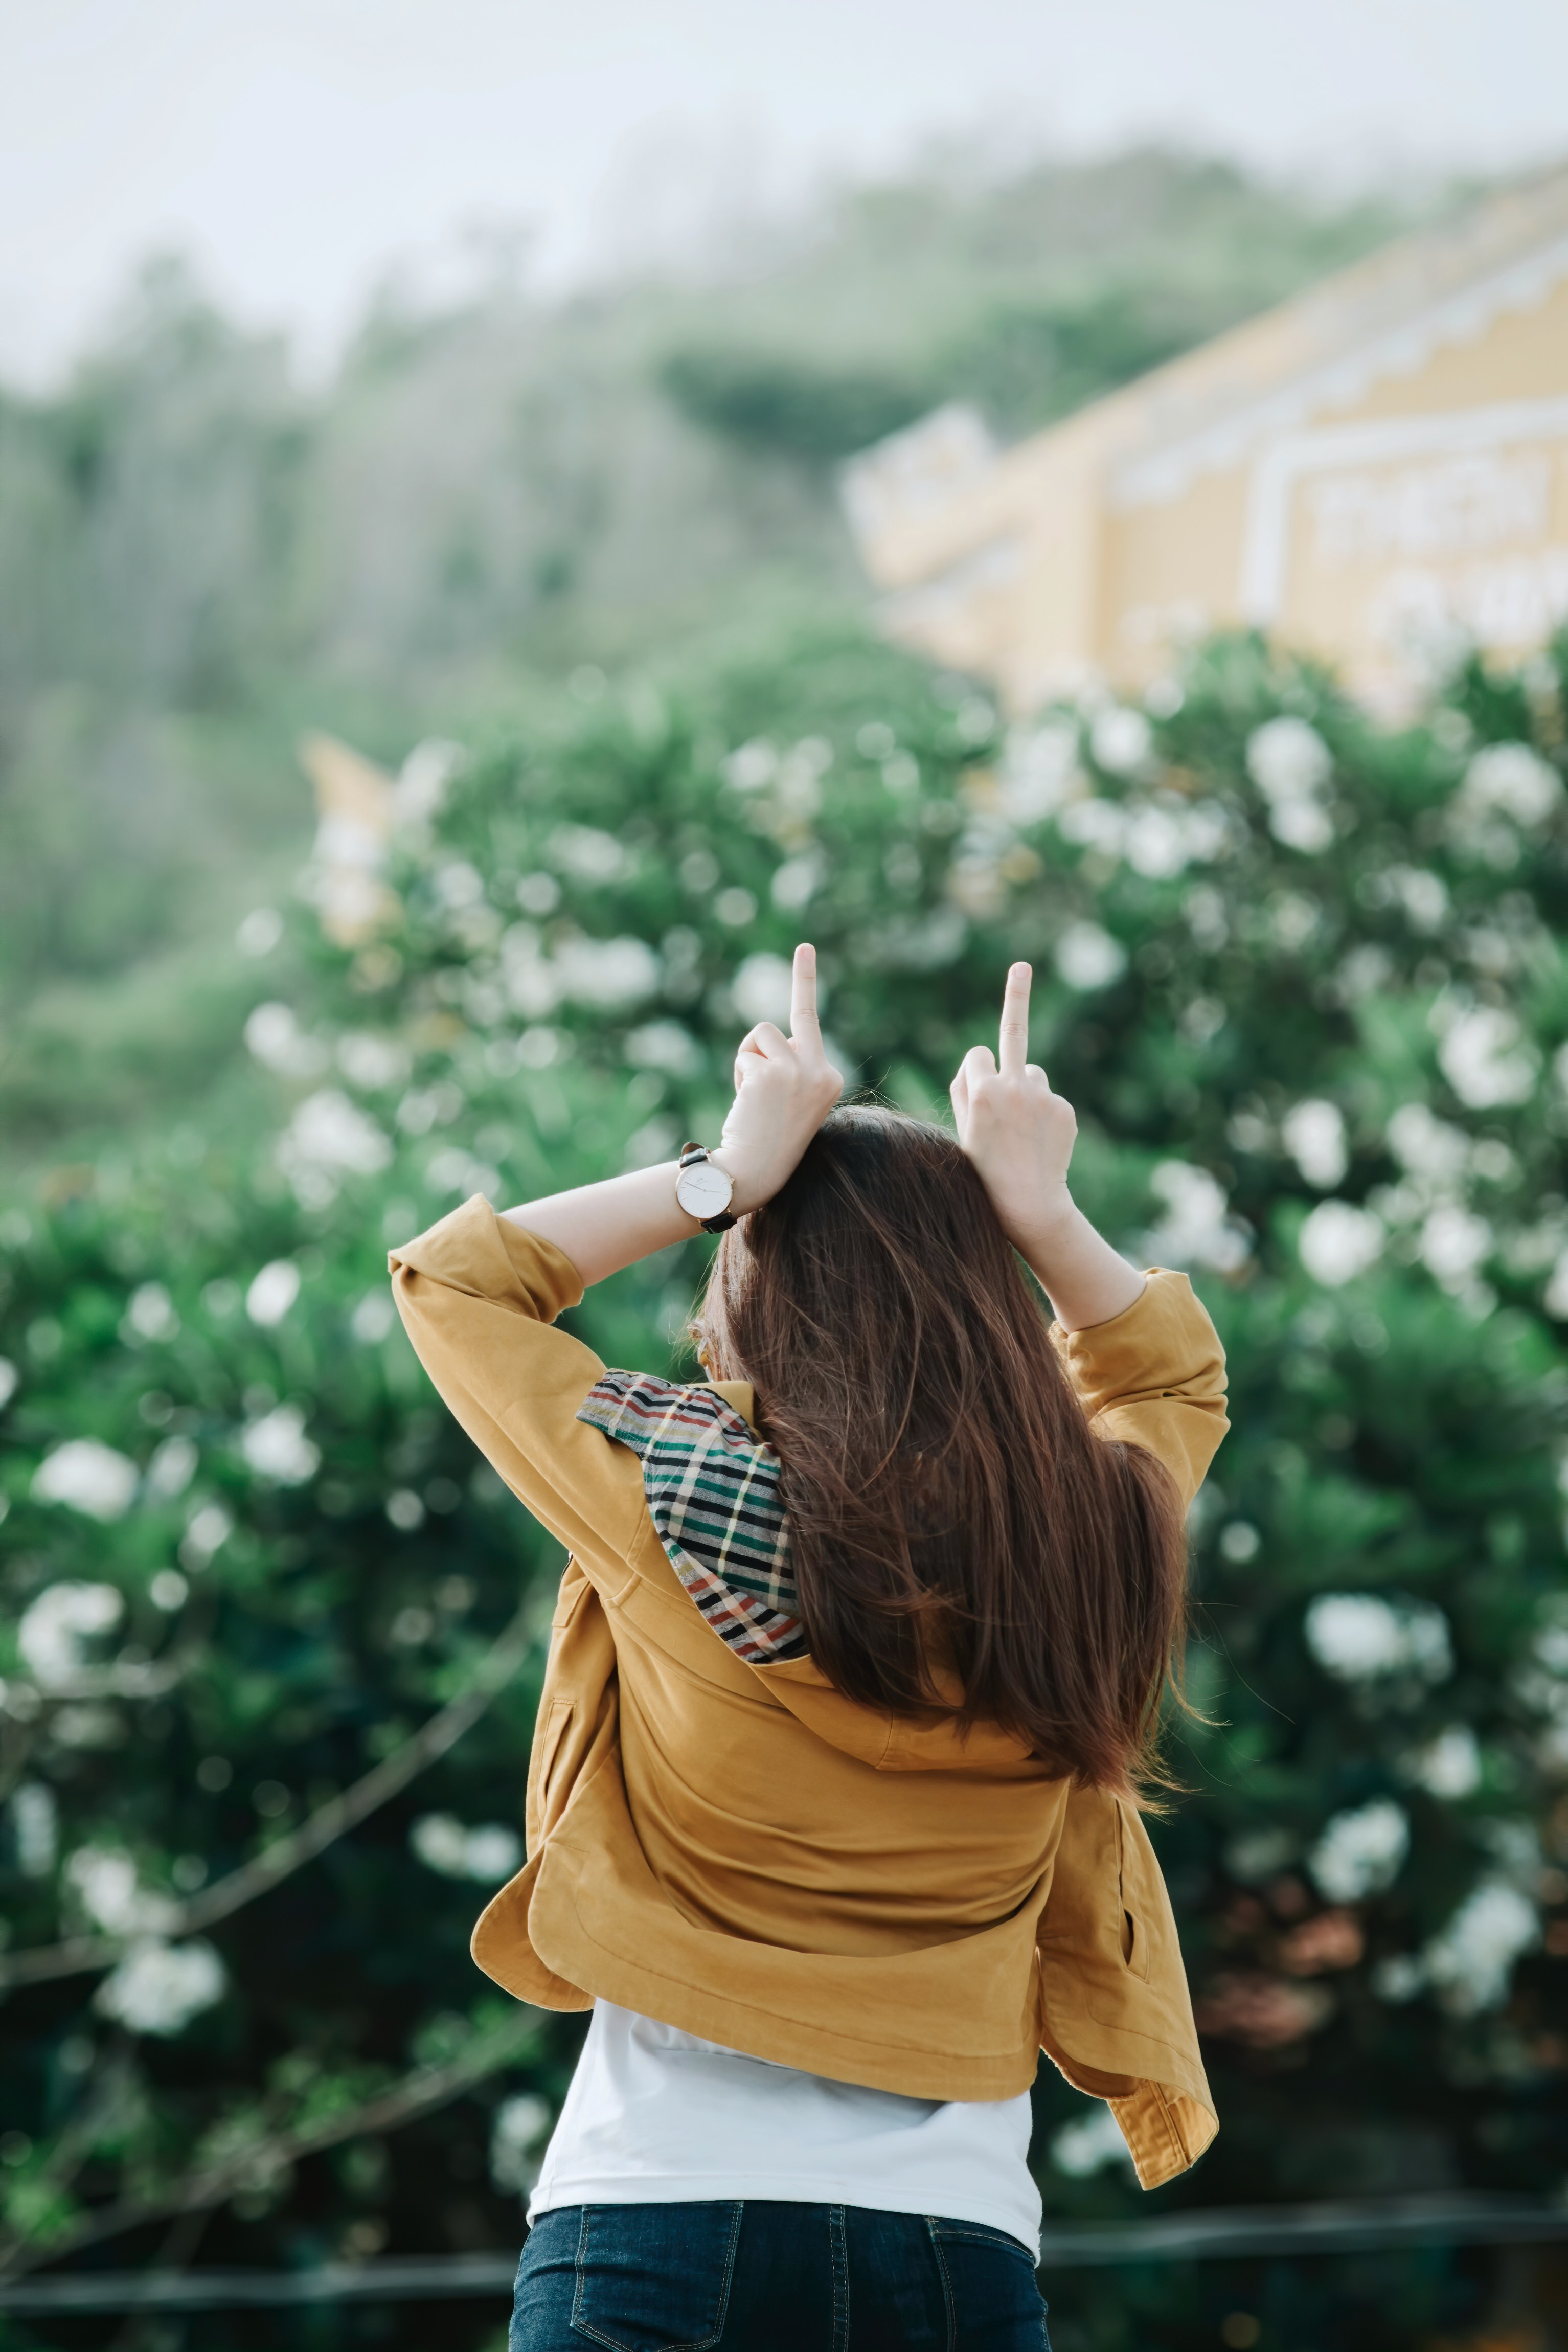bad fingers: (945, 959, 1080, 1186), (719, 940, 844, 1150)
